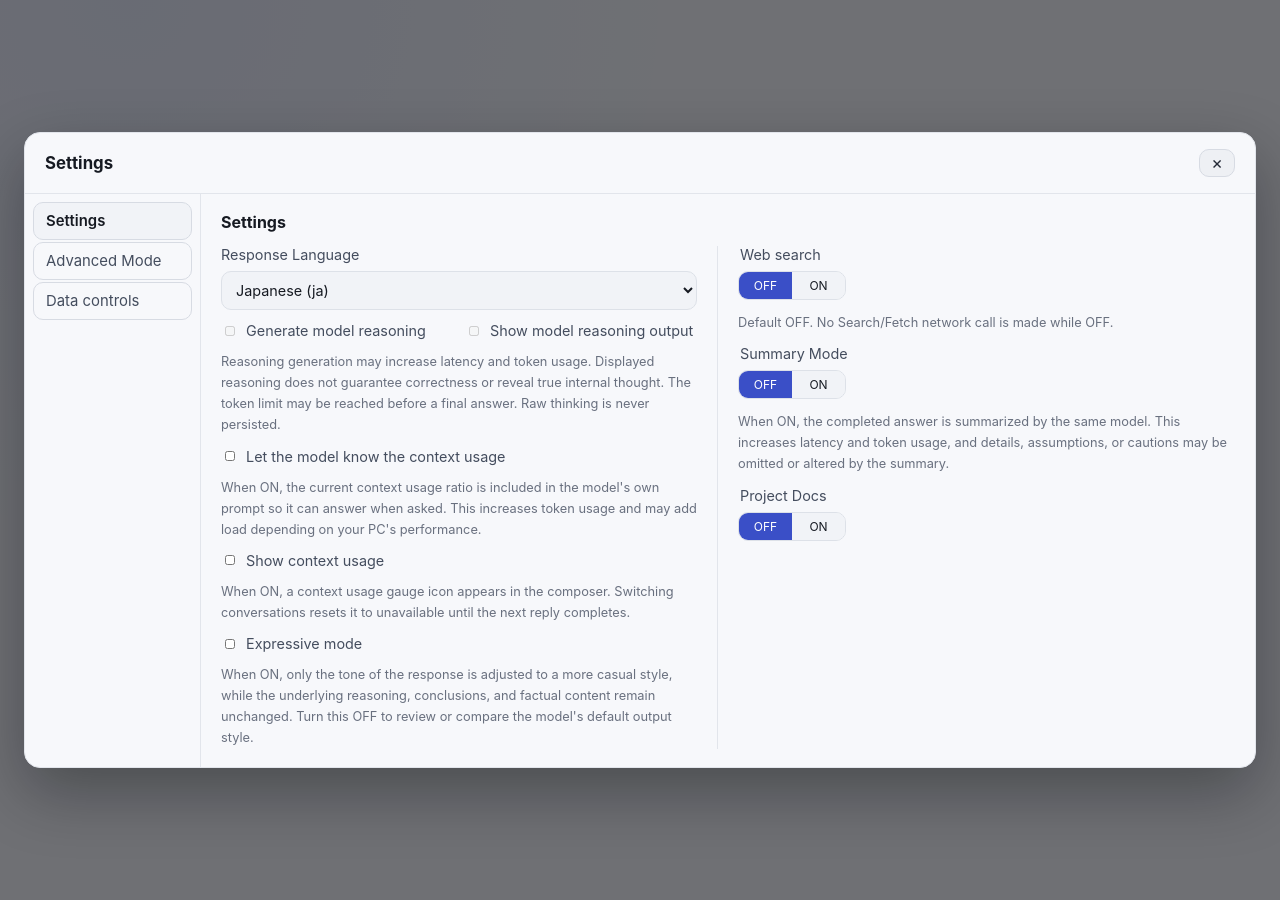
Test case: SettingsModal › Advanced places Research Mode last and Basic has no duplicate Max New Tokens input
The image size is (1280, 900).
Click the button "Advanced Mode". click: point(112, 261)
box: [33,242,192,280]
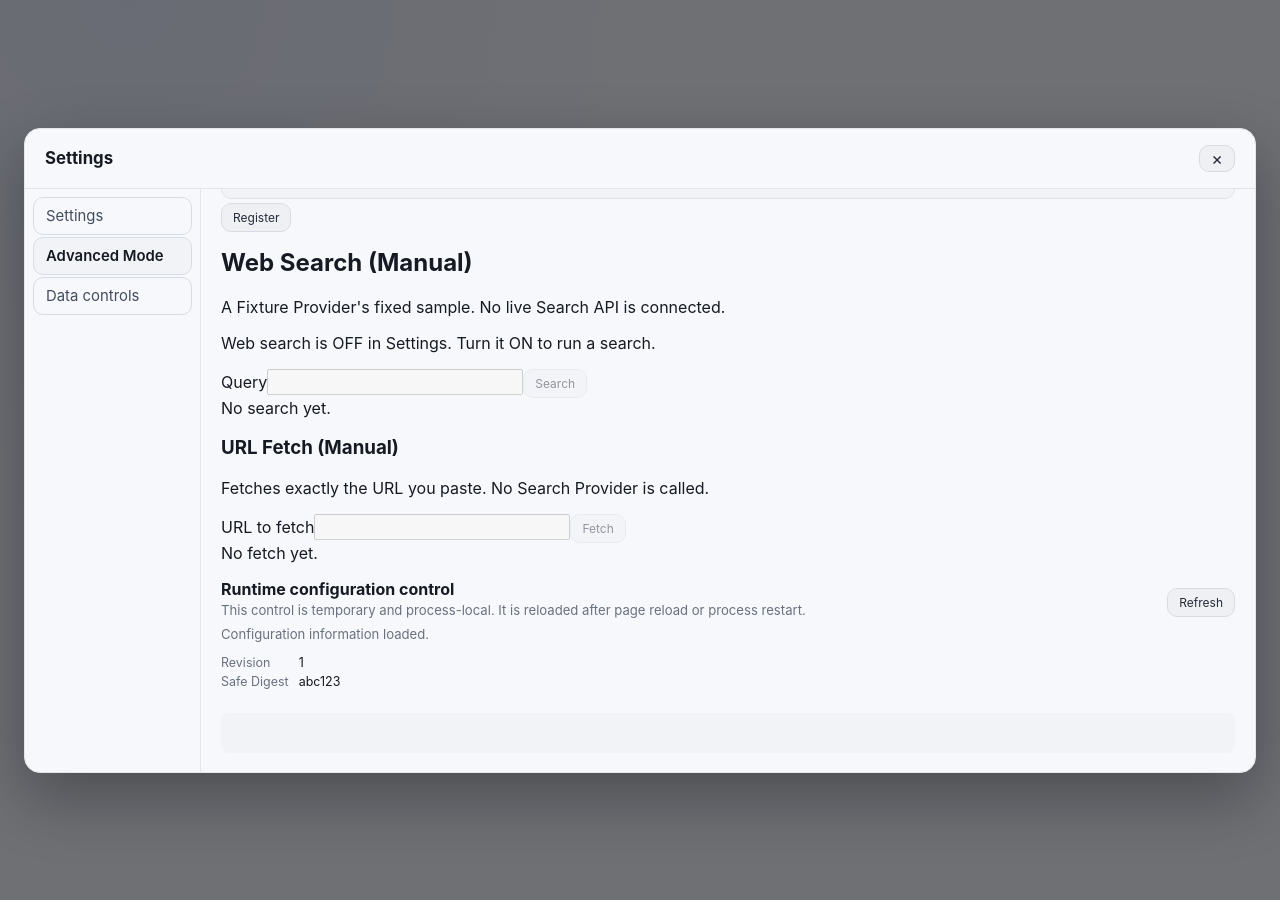
Now the element with id "configuration-panel" is shown, box [221,579,1235,753]
